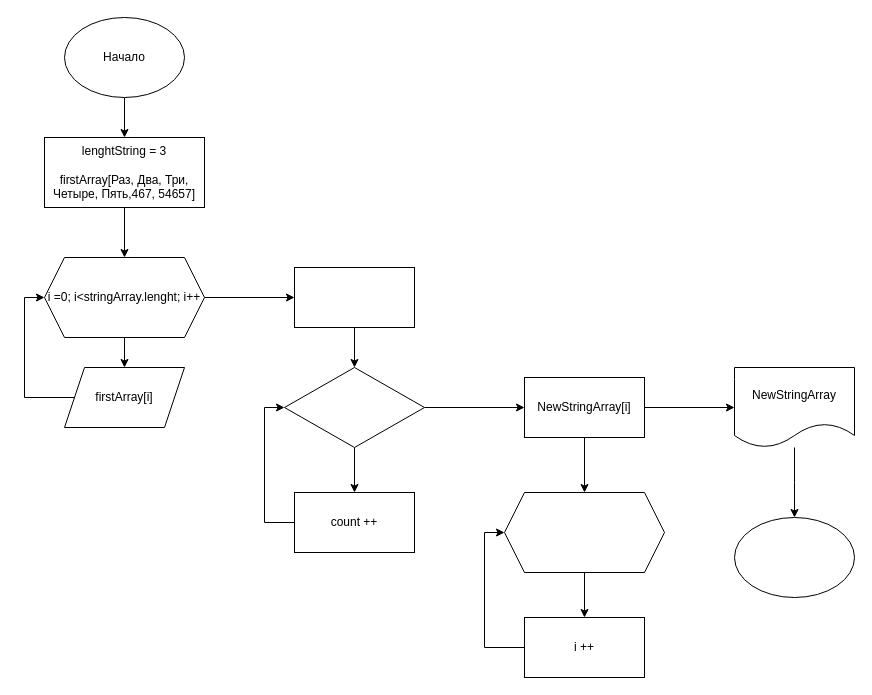
Image size: 872x695. Some labels were removed from this diagram. Each missing label, with the centre of its shape:
"count = 0" belongs at (x=354, y=297).
"i =0; i < s.lenght; i++" belongs at (x=584, y=532).
"s.lenght <= lenght" belongs at (x=354, y=407).
"конец" belongs at (x=794, y=557).
